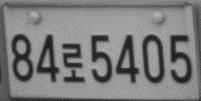0: (141, 33, 164, 83)
4: (115, 33, 140, 83), (35, 33, 60, 82)
5: (169, 33, 192, 83), (90, 34, 112, 82)
8: (10, 32, 33, 81)
로: (61, 42, 85, 82)
